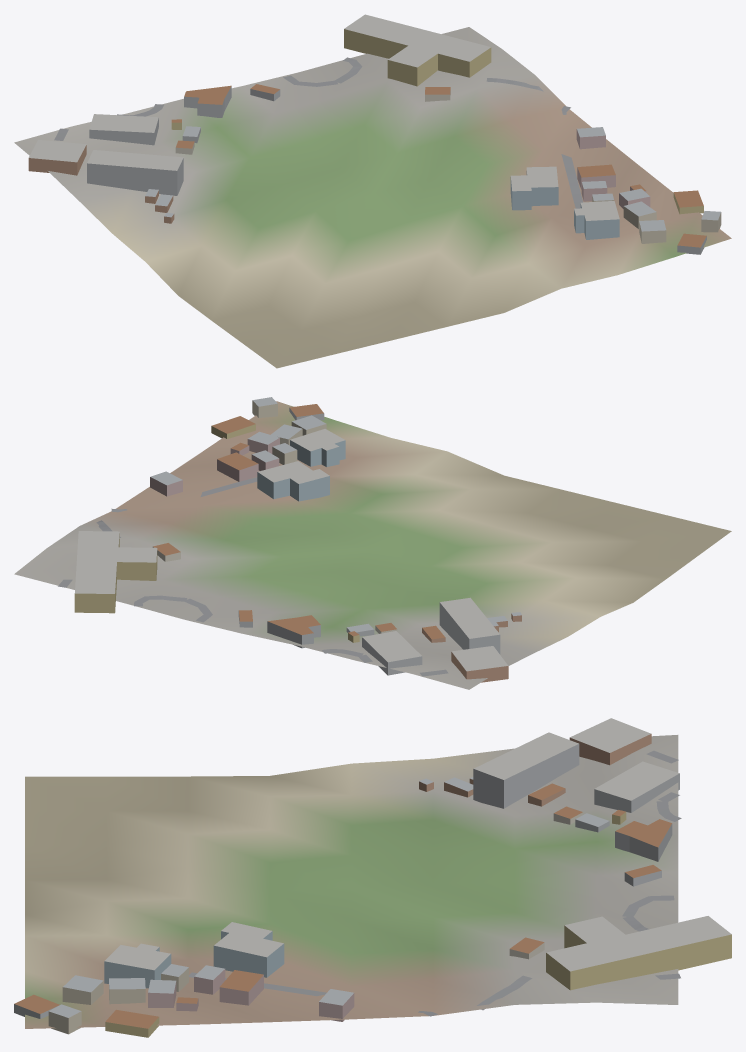
3 renders of one model, top to bottom at view 1: azimuth 30°, elevation 25°; view 2: azimuth 150°, elevation 25°; view 3: azimuth 270°, elevation 25°, orthographic. The views are drawn at different scales.
Parts seen in each view (by area): view 1: Lo; view 2: Lo; view 3: Lo.
Part boxes in pixels (left/top/right/bottom): Lo: left=14, top=14, right=731, bottom=368; Lo: left=14, top=397, right=731, bottom=689; Lo: left=14, top=718, right=731, bottom=1037.
Bounding box in the file's own units: 272 × 29.49 × 281.
